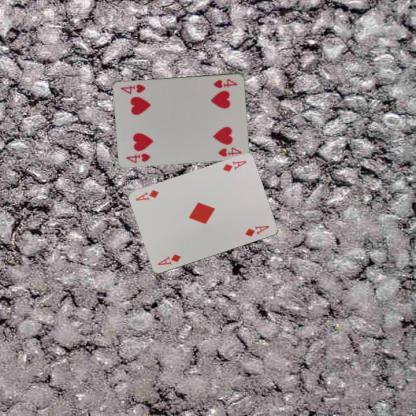4h: (124, 150, 152, 164), (211, 76, 238, 90)
Ad: (220, 158, 247, 174), (155, 252, 182, 267)
